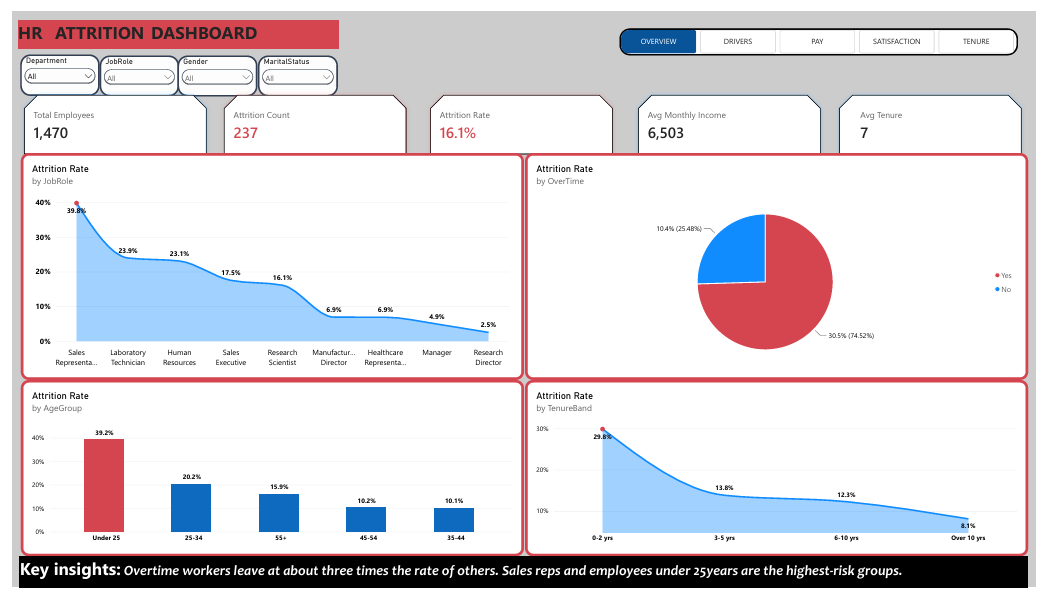

This screenshot's page, from the dashboard's own definition file:
{"tool":"powerbi","page":{"name":"OVERVIEW","canvas":[1920,1080],"ordinal":0},"visuals":[{"type":"textbox","box":[10.5,16.5,601,53],"z":0},{"type":"pageNavigator","box":[1138.5,30.8,747.9,51],"z":1000},{"type":"slicer","fields":{"Values":["hr_clean.Department"]},"box":[13.8,80,149,77.9],"z":2000},{"type":"slicer","fields":{"Values":["hr_clean.JobRole"]},"box":[163.1,81.5,149,77.9],"z":3000},{"type":"slicer","fields":{"Values":["hr_clean.Gender"]},"box":[309.2,81.5,149.9,77.9],"z":4000},{"type":"slicer","fields":{"Values":["hr_clean.MaritalStatus"]},"box":[460,81.5,149.9,77.9],"z":5000},{"type":"cardVisual","fields":{"Data":["hr_clean.Total Employees"]},"box":[10.5,145.4,365.7,134.9],"z":6000},{"type":"cardVisual","fields":{"Data":["hr_clean.Attrition Count"]},"box":[385.2,145.4,365.7,134.9],"z":7000},{"type":"cardVisual","fields":{"Data":["hr_clean.Attrition Rate"]},"box":[771.9,145.4,365.7,134.9],"z":8000},{"type":"cardVisual","fields":{"Data":["hr_clean.Avg Monthly Income"]},"box":[1161.6,145.4,365.7,134.9],"z":9000},{"type":"cardVisual","fields":{"Data":["hr_clean.Avg Tenure"]},"box":[1539.3,145.4,365.7,134.9],"z":10000},{"type":"areaChart","fields":{"Category":["hr_clean.JobRole"],"Y":["hr_clean.Attrition Rate"]},"box":[15,265.3,944,425.7],"z":11000},{"type":"pieChart","fields":{"Category":["hr_clean.OverTime"],"Y":["hr_clean.Attrition Rate"]},"box":[960.7,265.3,944,425.7],"z":12000},{"type":"clusteredColumnChart","fields":{"Category":["hr_clean.AgeGroup"],"Y":["hr_clean.Attrition Rate"]},"box":[15,691,944,331.2],"z":13000},{"type":"areaChart","fields":{"Category":["hr_clean.TenureBand"],"Y":["hr_clean.Attrition Rate"]},"box":[960.7,691,944,331.2],"z":14000},{"type":"textbox","box":[13.5,1022.2,1891.5,58.5],"z":14001}]}

Visuals, with their boxes in screenshot pixels (x1, y1, x2, y2), scaled from the page's 1920x1080 canvas onto the 1050x600 screenshot:
textbox: (6, 9, 334, 39)
pageNavigator: (623, 17, 1032, 45)
slicer - hr_clean.Department: (8, 44, 89, 88)
slicer - hr_clean.JobRole: (89, 45, 171, 89)
slicer - hr_clean.Gender: (169, 45, 251, 89)
slicer - hr_clean.MaritalStatus: (252, 45, 334, 89)
cardVisual - hr_clean.Total Employees: (6, 81, 206, 156)
cardVisual - hr_clean.Attrition Count: (211, 81, 411, 156)
cardVisual - hr_clean.Attrition Rate: (422, 81, 622, 156)
cardVisual - hr_clean.Avg Monthly Income: (635, 81, 835, 156)
cardVisual - hr_clean.Avg Tenure: (842, 81, 1042, 156)
areaChart - hr_clean.JobRole x hr_clean.Attrition Rate: (8, 147, 524, 384)
pieChart - hr_clean.OverTime x hr_clean.Attrition Rate: (525, 147, 1042, 384)
clusteredColumnChart - hr_clean.AgeGroup x hr_clean.Attrition Rate: (8, 384, 524, 568)
areaChart - hr_clean.TenureBand x hr_clean.Attrition Rate: (525, 384, 1042, 568)
textbox: (7, 568, 1042, 599)
